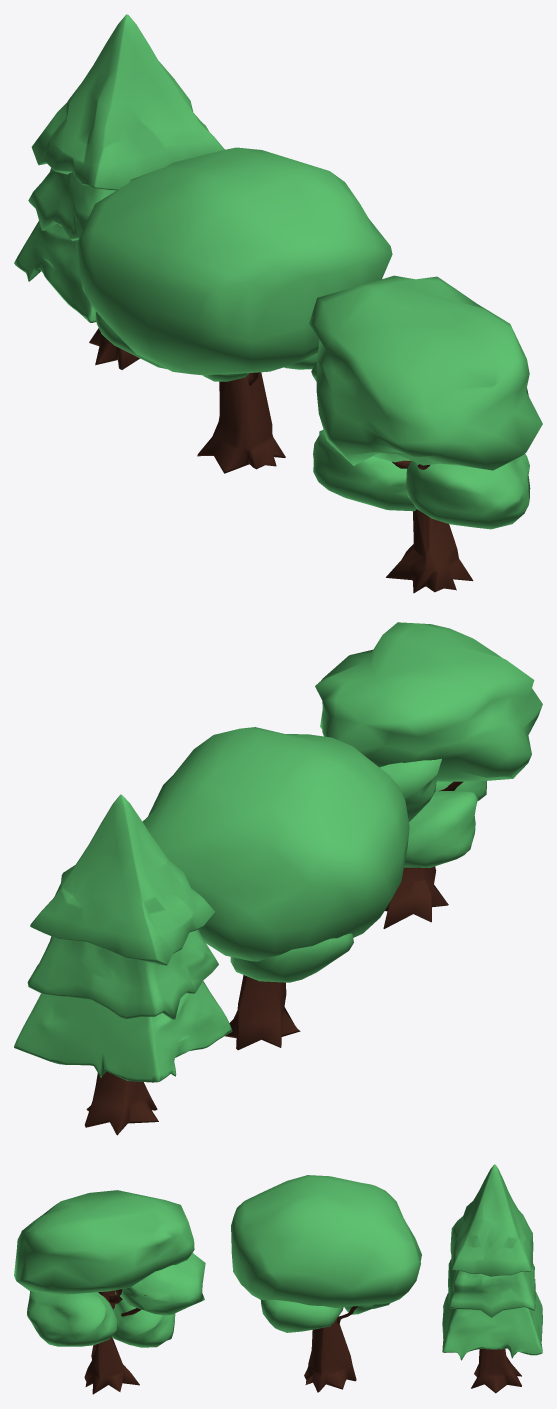
Rendered from oakTree.fbx.
3 renders of one model, top to bottom at view 1: azimuth 30°, elevation 25°; view 2: azimuth 150°, elevation 25°; view 3: azimuth 270°, elevation 25°, orthographic. The views are drawn at different scales.
Visible parts, largest first — view 1: Plane.003, Plane.001, Leaves Layer 1, Trunk.001, Trunk.002, Leaves Layer 3, Leaves Layer 2, Trunk; view 2: Plane.003, Plane.001, Leaves Layer 1, Leaves Layer 3, Leaves Layer 2, Trunk.001, Trunk, Trunk.002; view 3: Plane.001, Plane.003, Leaves Layer 1, Leaves Layer 3, Leaves Layer 2, Trunk.001, Trunk.002, Trunk.
Part boxes in pixels (<box>): Plane.003: <box>76,147,392,381</box>; Plane.001: <box>309,275,542,529</box>; Leaves Layer 1: <box>31,14,224,190</box>; Trunk.001: <box>197,372,285,473</box>; Trunk.002: <box>386,509,473,593</box>; Leaves Layer 3: <box>14,221,96,322</box>; Leaves Layer 2: <box>28,168,116,240</box>; Trunk: <box>89,328,139,369</box>; Plane.003: <box>142,727,409,982</box>; Plane.001: <box>315,622,542,867</box>; Leaves Layer 1: <box>30,794,215,965</box>; Leaves Layer 3: <box>14,981,232,1082</box>; Leaves Layer 2: <box>27,929,218,1019</box>; Trunk.001: <box>225,975,300,1050</box>; Trunk: <box>84,1071,158,1135</box>; Trunk.002: <box>383,866,448,928</box>; Plane.001: <box>14,1190,205,1347</box>; Plane.003: <box>231,1175,421,1332</box>; Leaves Layer 1: <box>450,1164,533,1276</box>; Leaves Layer 3: <box>442,1291,542,1360</box>; Leaves Layer 2: <box>448,1259,535,1317</box>; Trunk.001: <box>304,1316,356,1392</box>; Trunk.002: <box>84,1290,139,1394</box>; Trunk: <box>471,1349,521,1393</box>.
Size of the model in its own units: 351 by 469 by 1014.
